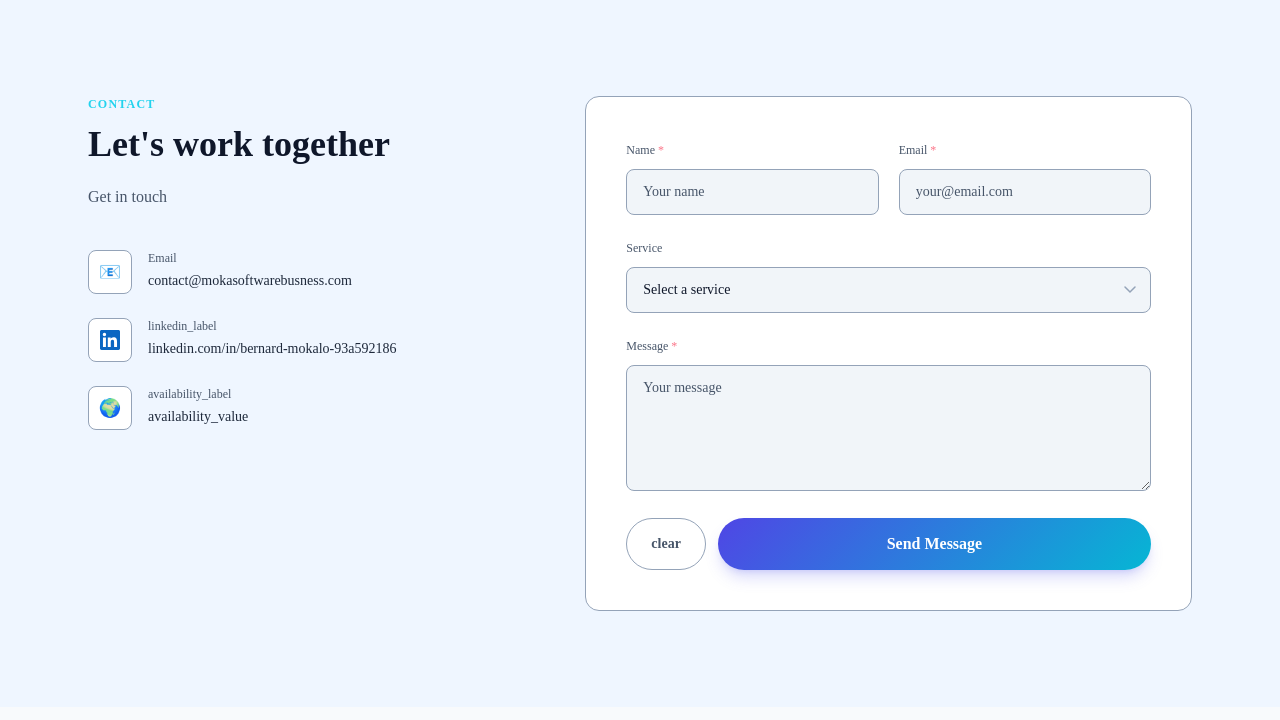
Test: Contact › shows error on invalid email format
Type "John" into the field labelled "Name *".
click(752, 192); type("John")  # box [626,169,879,215]
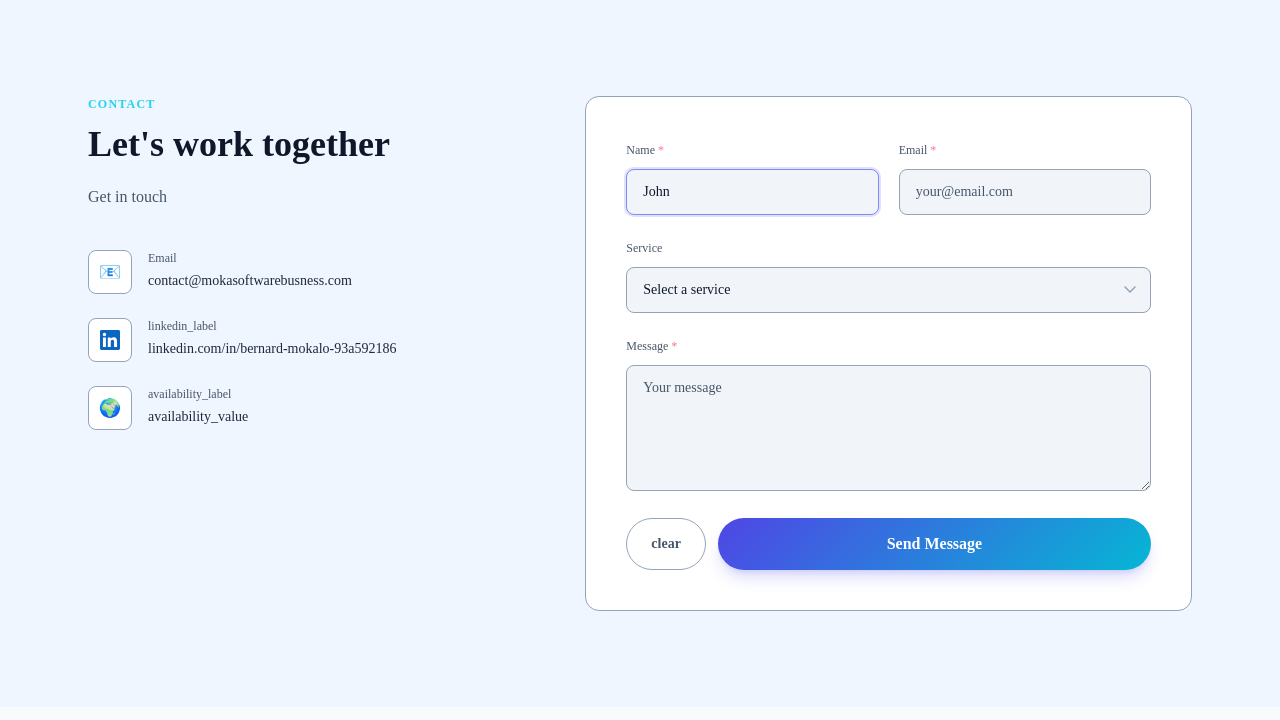
Type "not-an-email" into the field labelled "Email *".
click(1025, 192); type("not-an-email")  # box [899,169,1151,215]
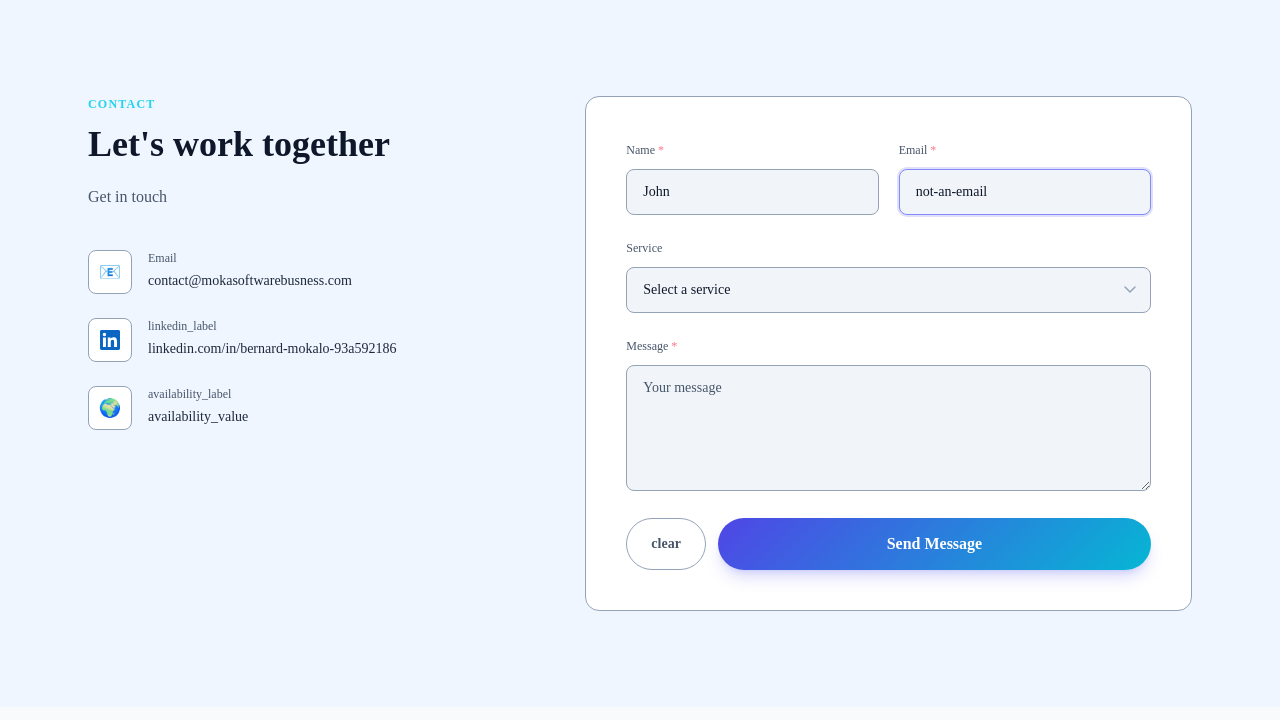
Type "Hello" into the text box labelled "Message *".
click(889, 428); type("Hello")  # box [626,365,1151,491]
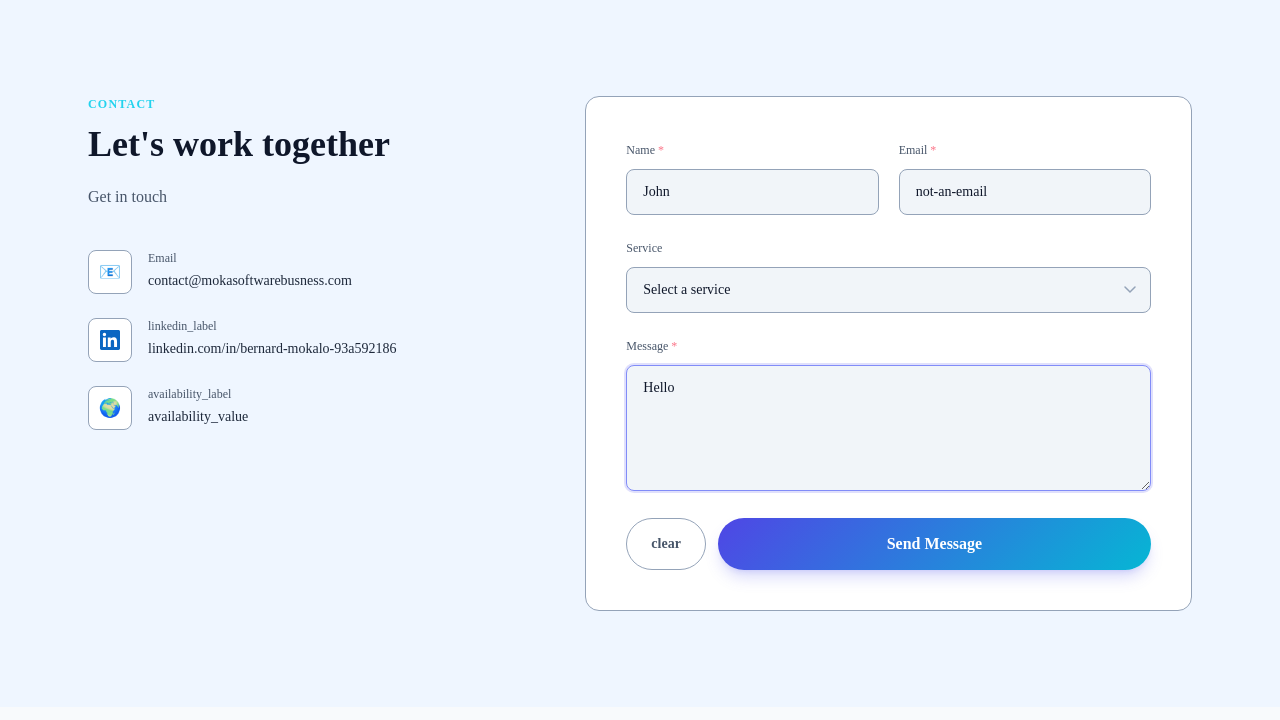
Click the button "Send Message".
click(934, 544)  # box [718,518,1151,570]
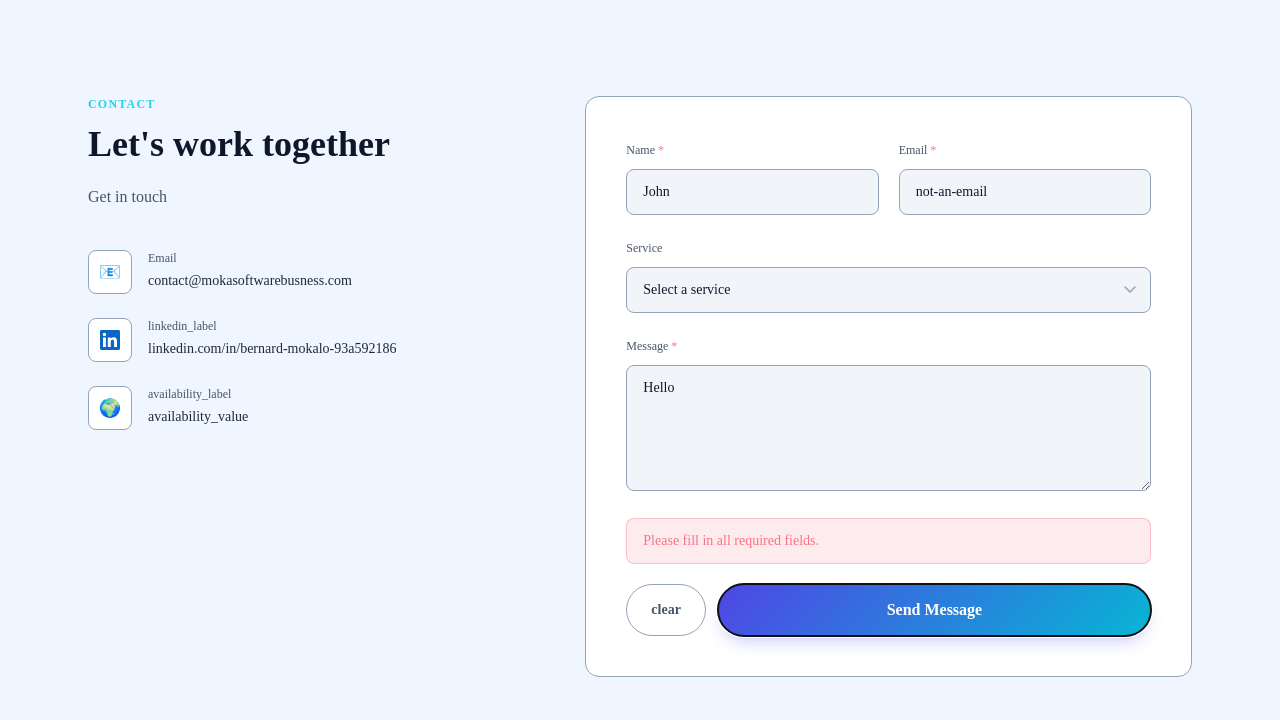
Now the text "Please fill in all required fields." is shown, box [626,518,1151,564]
